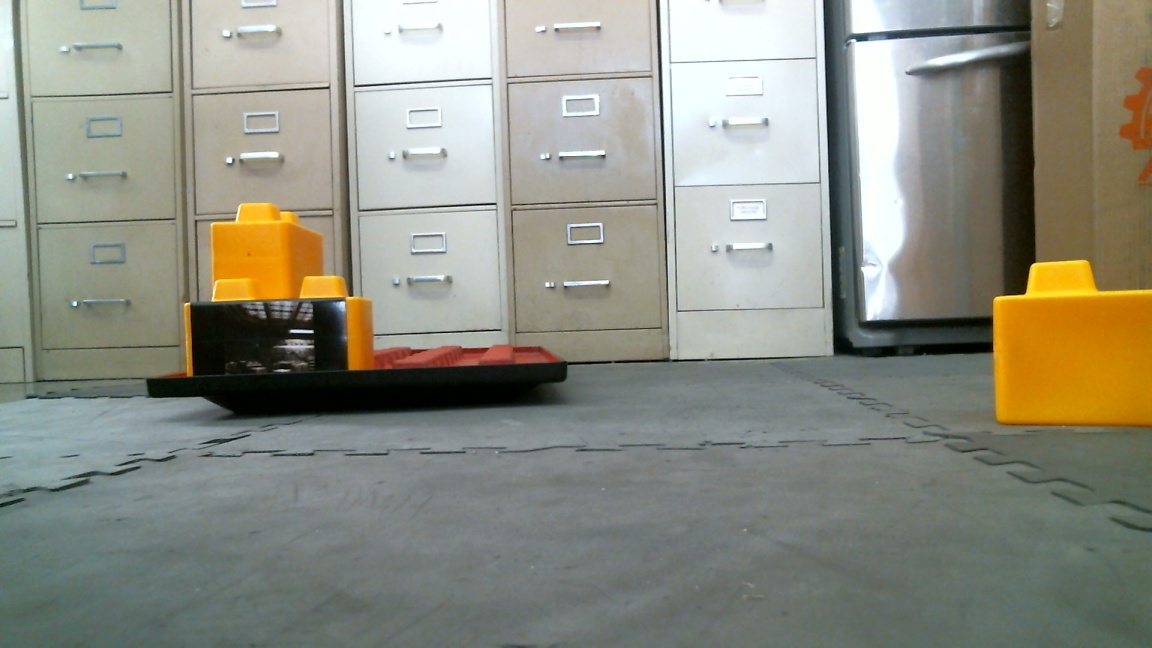red_foundation: (394, 343, 575, 400)
skystone: (187, 304, 373, 371)
stone: (993, 256, 1152, 427), (211, 196, 327, 294)
